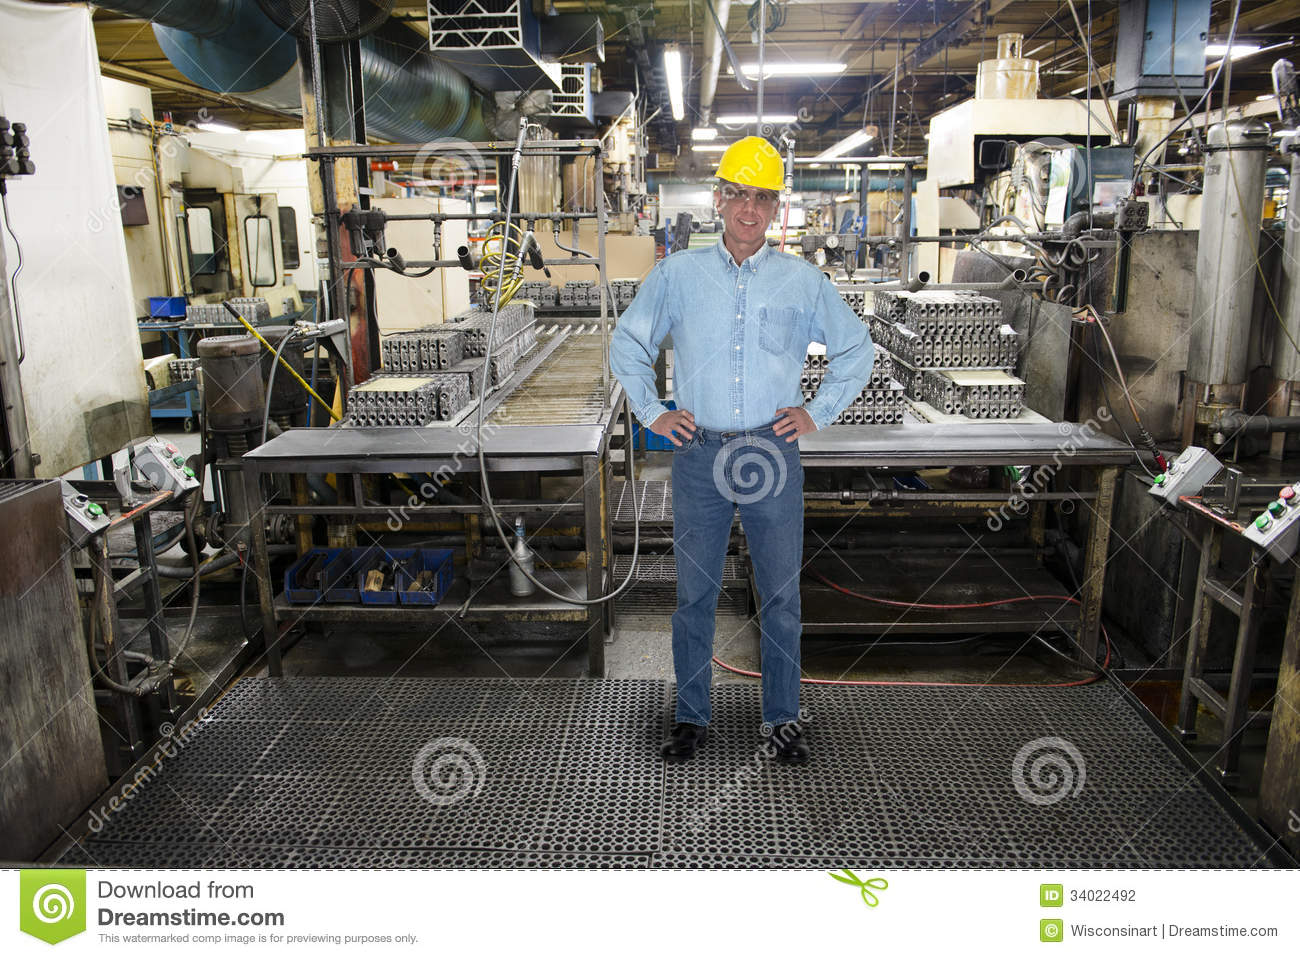person: (610, 134, 874, 760)
